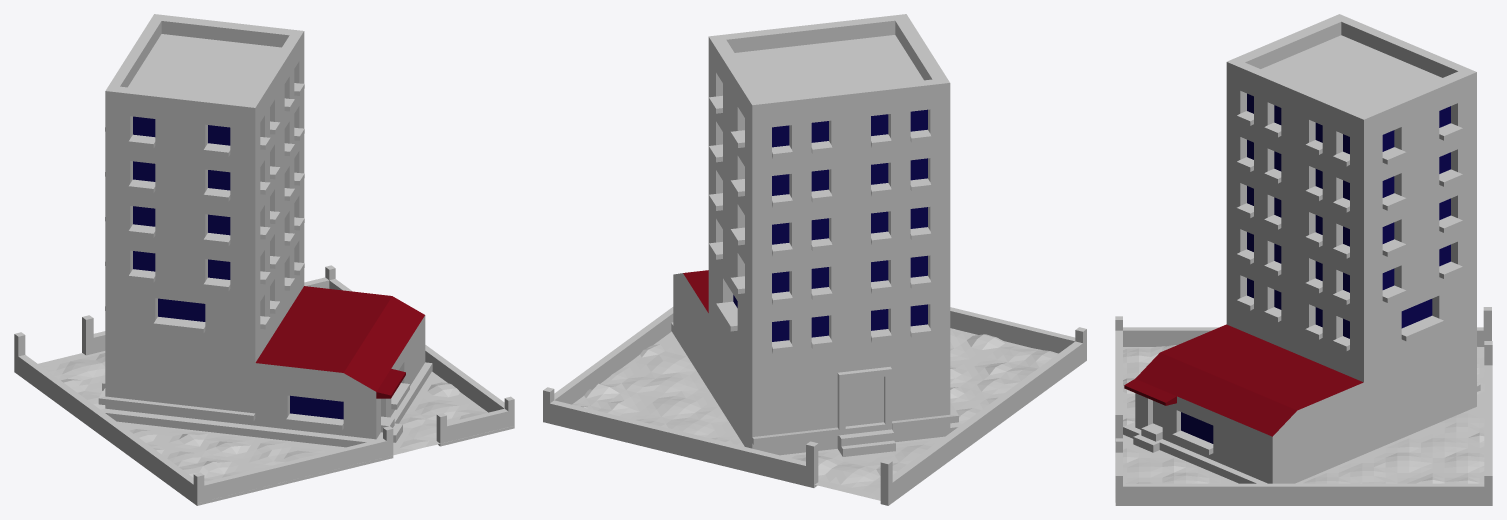
Rendered from finca.dae.
3 views of the same model, side by side, from view 1: azimuth 30°, elevation 25°; view 2: azimuth 150°, elevation 25°; view 3: azimuth 270°, elevation 25° (orthographic). The views are drawn at different scales.
Visible parts, largest first — view 1: finca, muero, cesped, techo, cornisa, tienda, techo2, cristal, bordillo, cornisa2; view 2: finca, muero, cesped, cornisa, techo2, cristal, cornisa2, tienda, puerta, bordillo, techo; view 3: finca, techo, muero, cesped, tienda, cornisa, techo2, cristal, cornisa2, bordillo.
Boxes of the visible parts, <box> form: finca: <box>105,21,304,425</box>; muero: <box>14,265,514,505</box>; cesped: <box>38,351,507,481</box>; techo: <box>255,286,424,398</box>; cornisa: <box>98,83,409,442</box>; tienda: <box>255,315,425,439</box>; techo2: <box>128,34,281,100</box>; cristal: <box>133,116,343,419</box>; bordillo: <box>103,362,432,447</box>; cornisa2: <box>105,14,303,107</box>; finca: <box>708,20,950,449</box>; muero: <box>543,307,1086,505</box>; cesped: <box>572,328,1058,500</box>; cornisa: <box>709,95,958,456</box>; techo2: <box>735,35,923,98</box>; cristal: <box>733,109,927,341</box>; cornisa2: <box>709,14,949,105</box>; tienda: <box>673,273,708,388</box>; puerta: <box>845,377,883,426</box>; bordillo: <box>671,322,959,455</box>; techo: <box>683,270,708,312</box>; finca: <box>1226,21,1476,446</box>; techo: <box>1124,324,1363,436</box>; muero: <box>1115,307,1492,505</box>; cesped: <box>1115,345,1484,502</box>; tienda: <box>1135,382,1363,483</box>; cornisa: <box>1133,111,1480,454</box>; techo2: <box>1261,35,1441,111</box>; cristal: <box>1181,93,1450,443</box>; cornisa2: <box>1227,14,1476,119</box>; bordillo: <box>1123,399,1476,483</box>.
Size of the model in its own units: 373 by 373 by 372.
